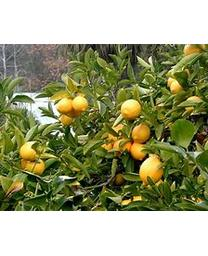lemon: (140, 158, 164, 185), (21, 141, 42, 161), (132, 123, 151, 142), (130, 142, 151, 159), (121, 100, 141, 117), (25, 160, 45, 176), (71, 96, 89, 113), (57, 100, 75, 114)
